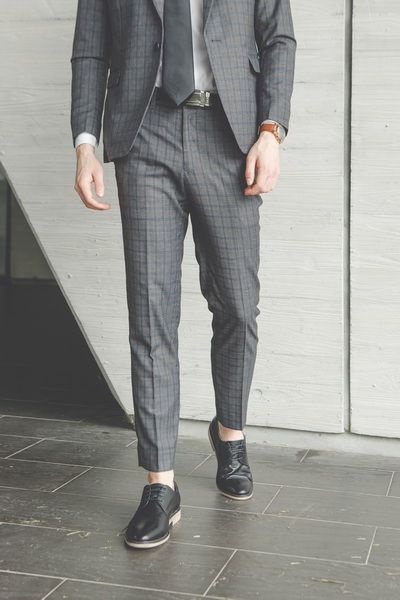F_M_suit jacket: (73, 1, 295, 141)
F_belt: (137, 86, 227, 128)
F_dress pants: (115, 117, 264, 447)
F_tie: (158, 1, 200, 98)
